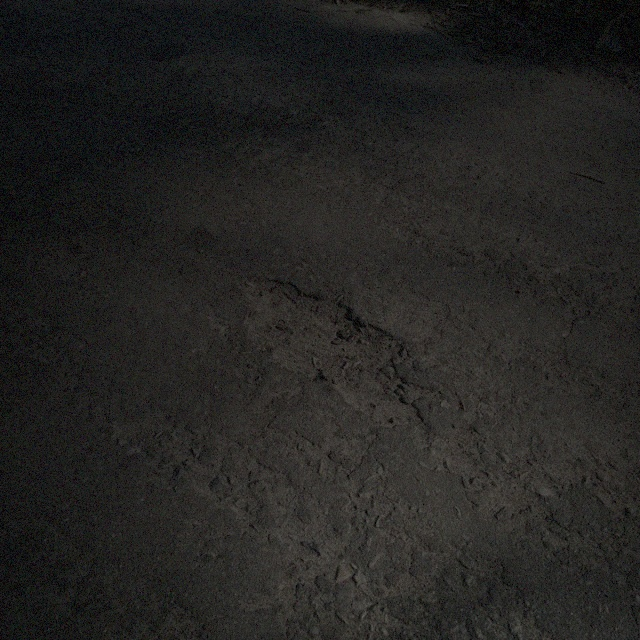pothole: (236, 272, 430, 428)
